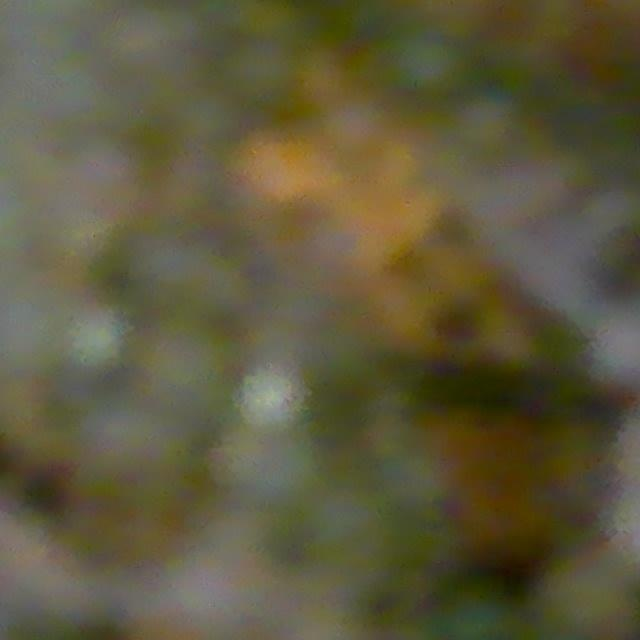SeaGrape: (235, 361, 311, 438), (60, 299, 131, 375)
